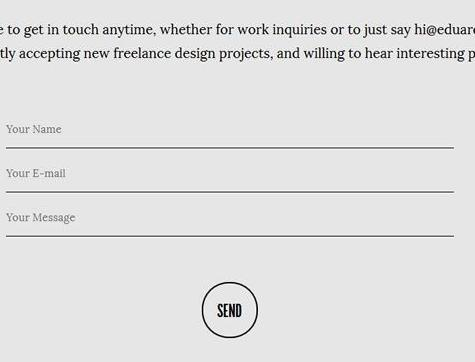button: (202, 281, 258, 338)
field_line: (4, 120, 455, 150), (3, 165, 454, 194), (4, 211, 454, 238)
